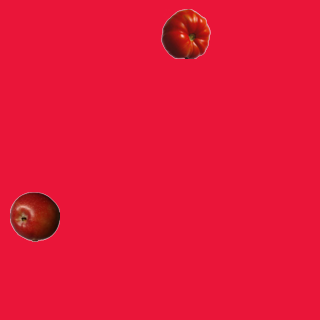Apple Braeburn: (9, 191, 59, 241)
Tomato 3: (160, 8, 210, 58)
